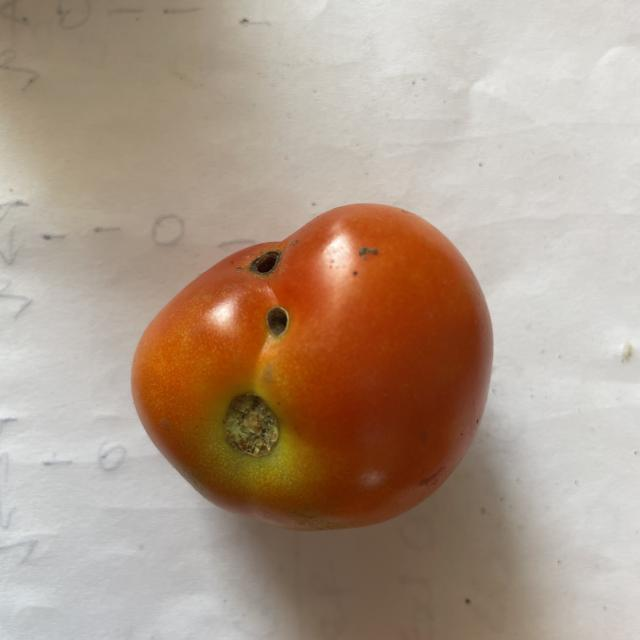fruitworm_bore: (245, 242, 295, 343)
